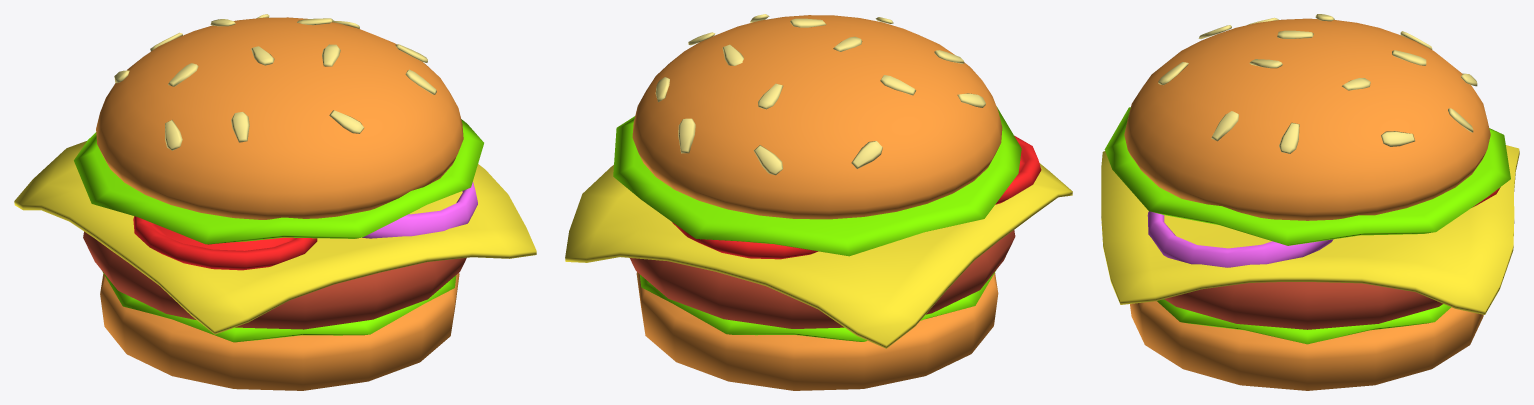
Rendered from mid_poly_cheeseburger.glb.
The picture shows the model from 3 angles, left to right: view 1: azimuth 30°, elevation 25°; view 2: azimuth 150°, elevation 25°; view 3: azimuth 270°, elevation 25°; orthographic projection.
Visible parts, largest first — view 1: Object_9, Object_3, Object_2, Object_6, Object_5, Object_8, Object_7, Object_4; view 2: Object_9, Object_3, Object_2, Object_6, Object_5, Object_7, Object_8; view 3: Object_9, Object_3, Object_2, Object_6, Object_5, Object_4, Object_7.
Part boxes in pixels (box(x1,y1,x2,y2)): Object_9: box(96, 17, 463, 219); Object_3: box(14, 141, 536, 334); Object_2: box(100, 273, 459, 390); Object_6: box(74, 119, 483, 342); Object_5: box(83, 231, 466, 329); Object_8: box(133, 216, 317, 270); Object_7: box(114, 14, 436, 150); Object_4: box(362, 182, 477, 238); Object_9: box(632, 15, 1002, 219); Object_3: box(565, 163, 1072, 348); Object_2: box(636, 272, 998, 390); Object_6: box(613, 106, 1021, 341); Object_5: box(630, 230, 1015, 328); Object_7: box(655, 14, 985, 175); Object_8: box(672, 135, 1041, 259); Object_9: box(1124, 18, 1490, 220); Object_3: box(1101, 145, 1519, 314); Object_2: box(1130, 301, 1483, 390); Object_6: box(1104, 107, 1510, 344); Object_5: box(1164, 282, 1442, 329); Object_4: box(1147, 211, 1333, 267); Object_7: box(1158, 14, 1477, 153).
Size of the model in its own units: 2.26 by 1.67 by 2.26.
